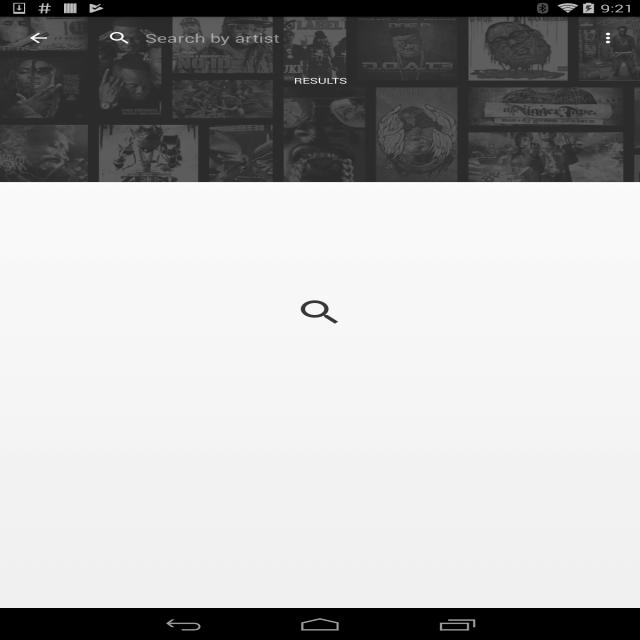EditText: (136, 26, 572, 50)
ImageButton: (9, 17, 68, 59)
ImageView: (0, 17, 640, 183), (0, 16, 640, 32), (294, 296, 346, 328), (589, 22, 631, 54), (0, 182, 640, 183), (102, 30, 136, 46)
TextView: (276, 60, 364, 101)
